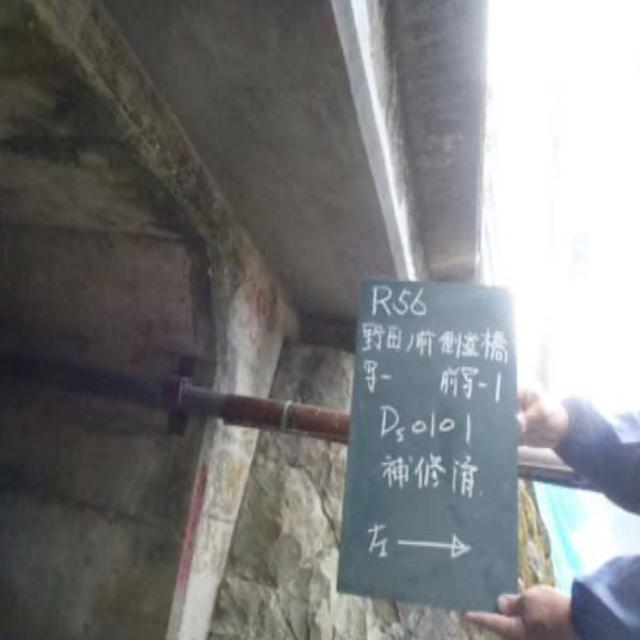corrosion: (147, 363, 350, 450)
